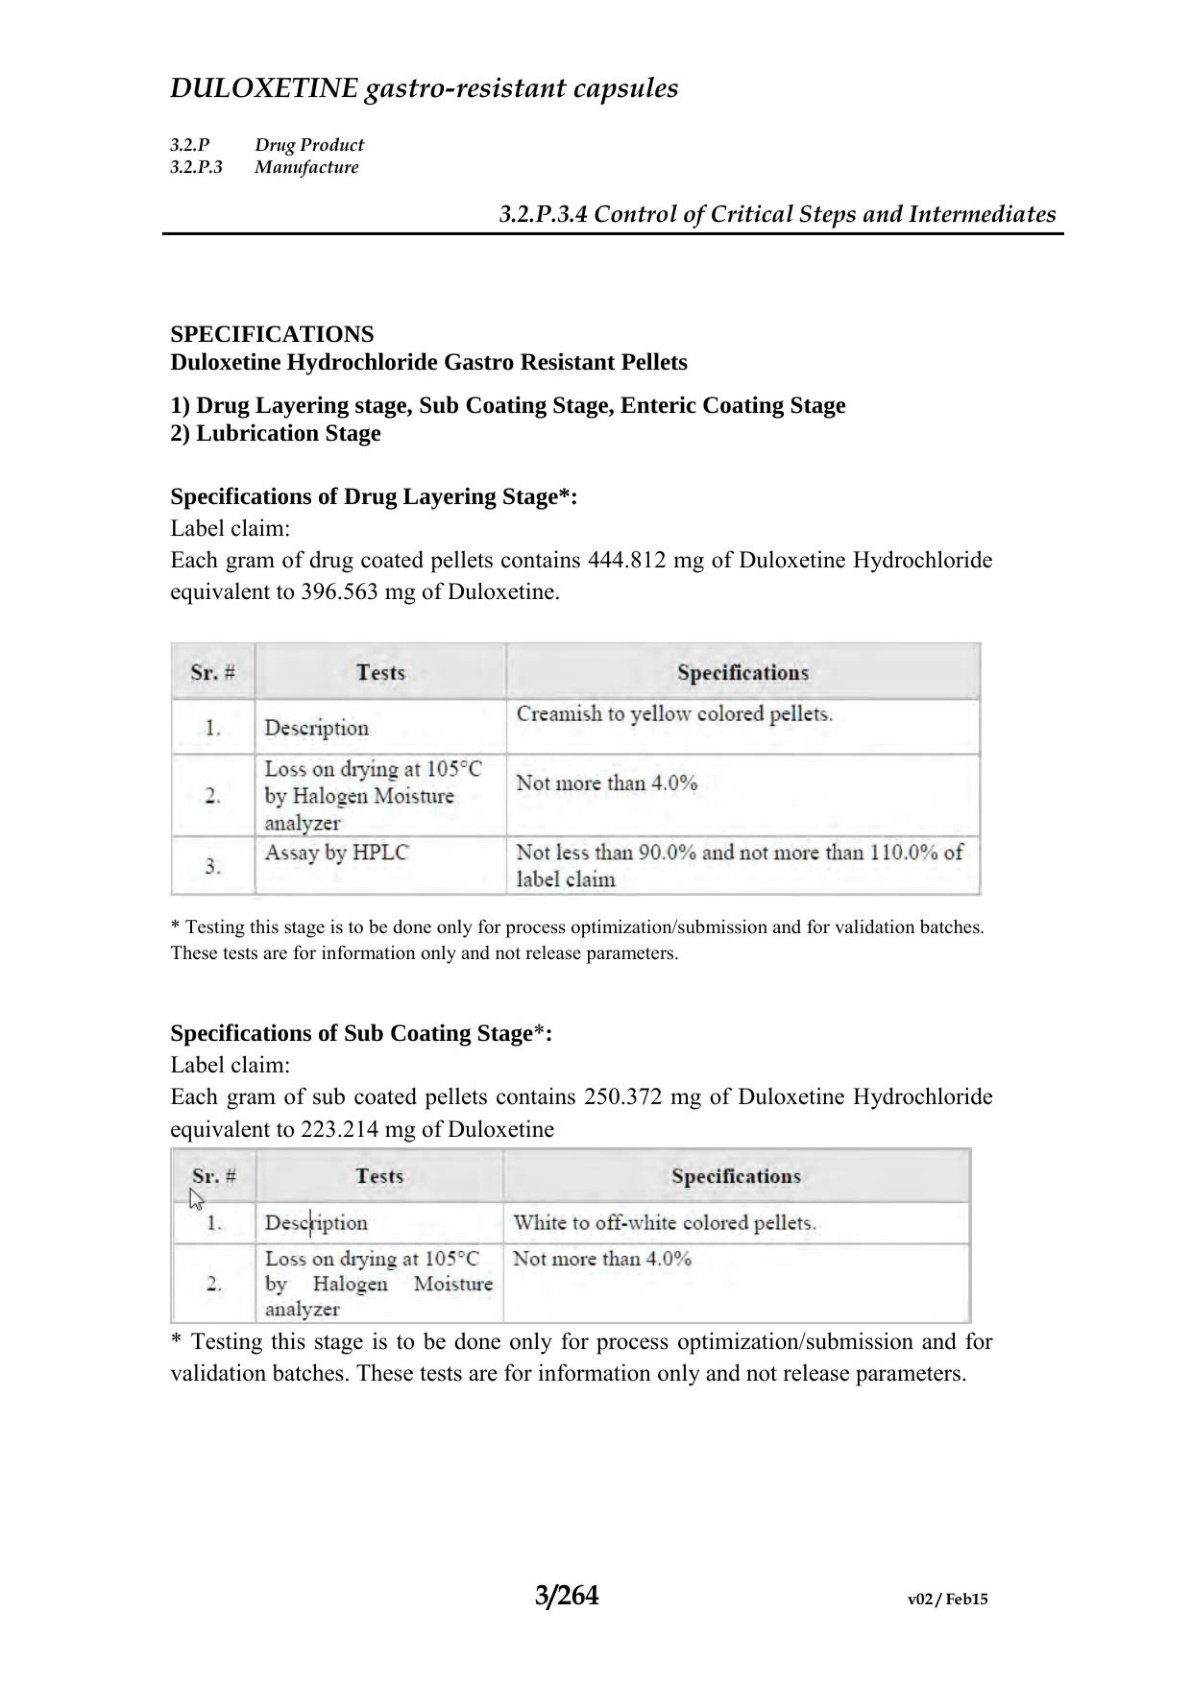full_lined: (170, 641, 982, 895), (169, 1146, 971, 1325)
